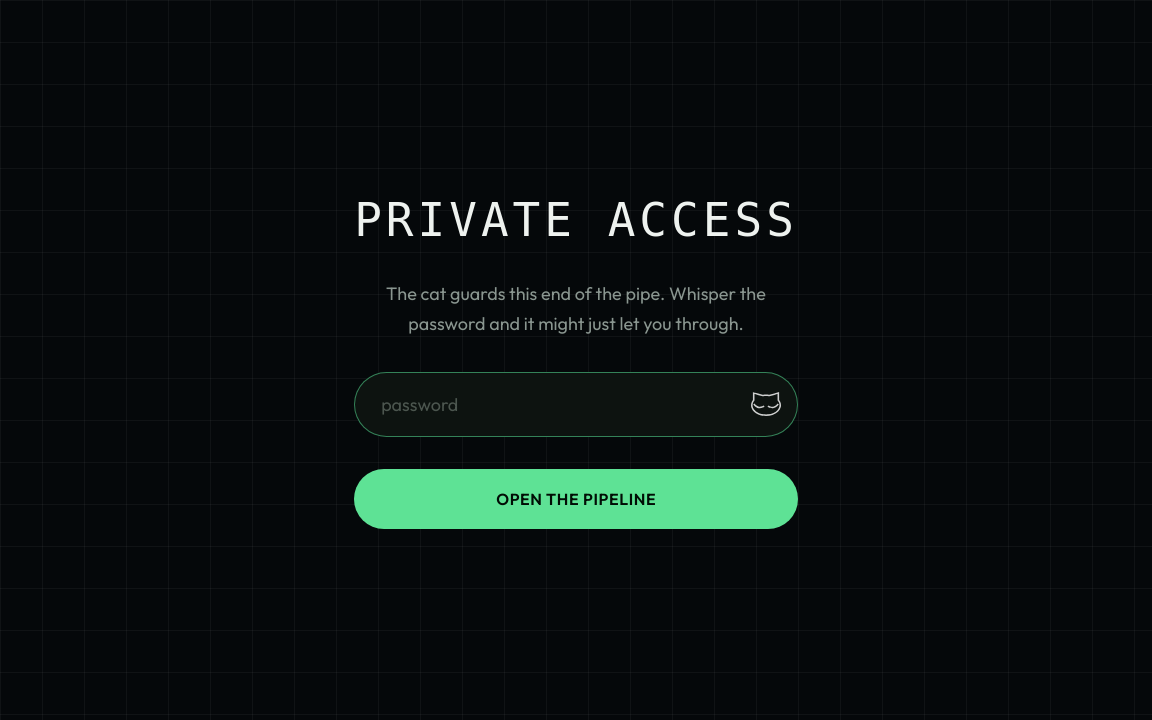
LoginPage › shows a rate-limit message on a 429
The image size is (1152, 720).
Type "nope" into the password field labelled "password" at (576, 404), box [354, 372, 798, 437]
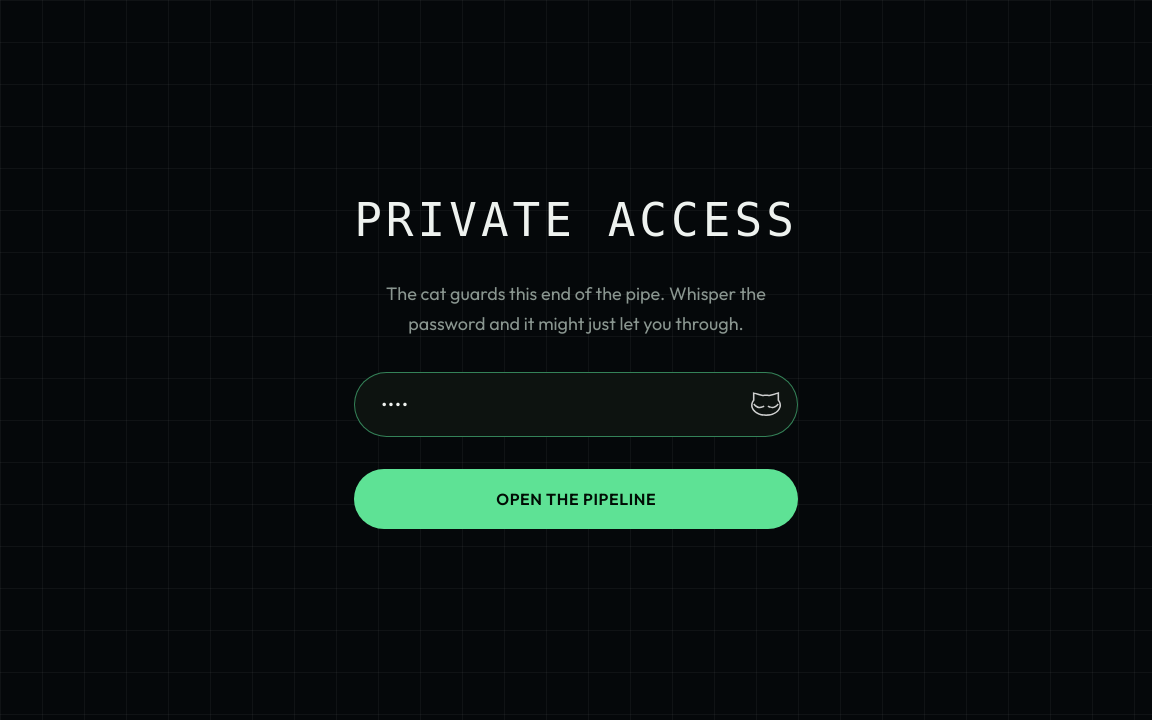
Click the button "OPEN THE PIPELINE" at (576, 499), box [354, 469, 798, 529]
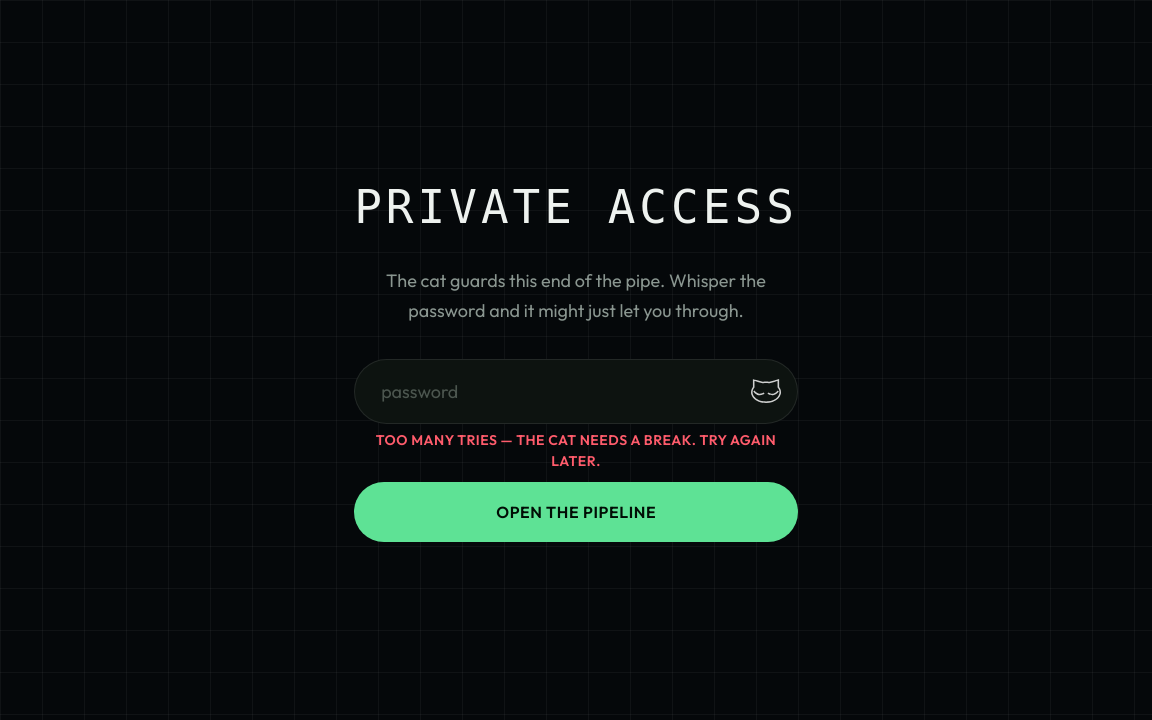
Expected: the text "TOO MANY TRIES — THE CAT NEEDS A BREAK. TRY AGAIN LATER." is shown, [354, 430, 798, 472]
